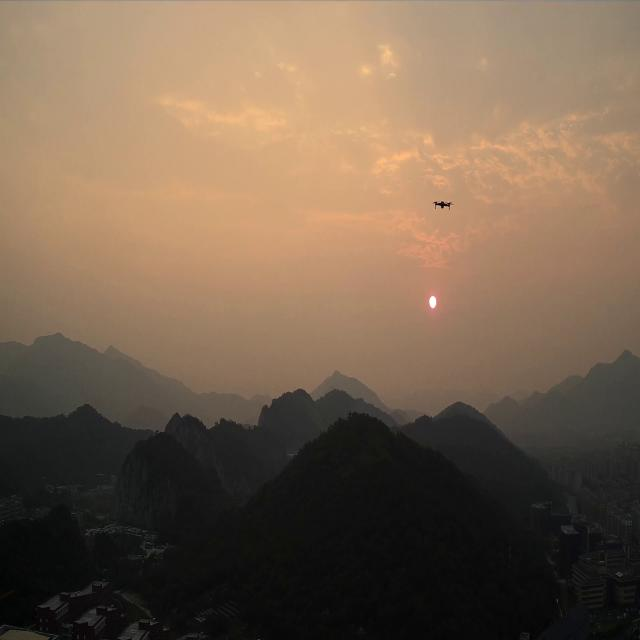UAV: (433, 199, 455, 211)
